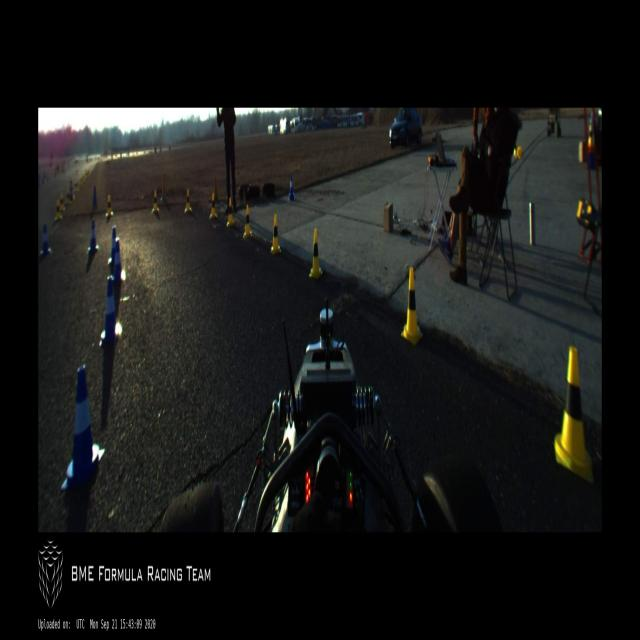blue_cone: (61, 364, 104, 488), (99, 277, 119, 348), (112, 238, 122, 282), (87, 220, 98, 254), (40, 223, 51, 254), (109, 224, 117, 264), (289, 175, 294, 200)
large_orange_cone: (70, 178, 73, 200)
unknown_cone: (160, 174, 167, 205), (91, 186, 99, 210), (213, 176, 218, 201)
yellow_cone: (554, 344, 592, 484), (400, 268, 422, 344), (308, 228, 322, 280), (271, 212, 281, 254), (243, 205, 252, 240), (227, 197, 234, 228), (209, 193, 217, 219), (151, 191, 159, 215), (185, 189, 192, 213), (105, 195, 113, 216), (587, 124, 593, 148), (55, 198, 61, 220), (60, 194, 65, 211), (66, 189, 69, 205)
